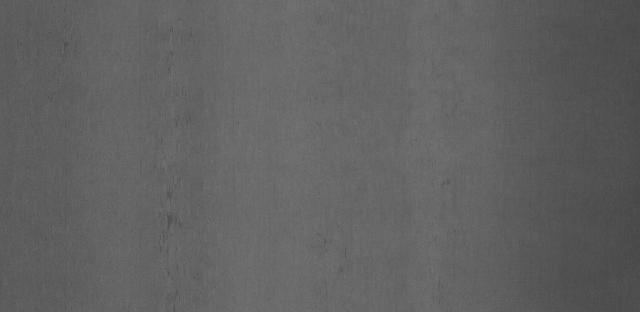silk_spot: (142, 96, 219, 285)
